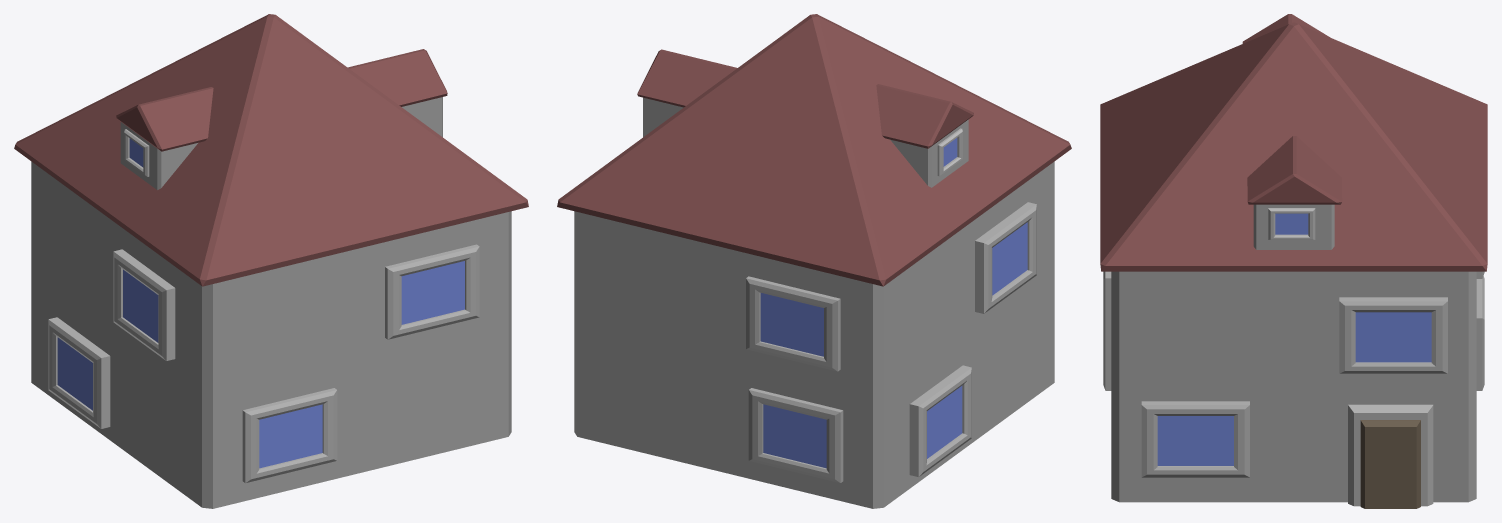
Rendered from house1.fbx.
3 views of the same model, side by side, from view 1: azimuth 30°, elevation 25°; view 2: azimuth 150°, elevation 25°; view 3: azimuth 270°, elevation 25° (orthographic). The views are drawn at different scales.
Visible parts, largest first — view 1: house; view 2: house; view 3: house.
Part boxes in pixels (x1,y1,x2,y2): house: (14, 14, 528, 508); house: (557, 14, 1071, 508); house: (1100, 14, 1487, 508).
Size of the model in its own units: 9.08 by 10.31 by 9.
